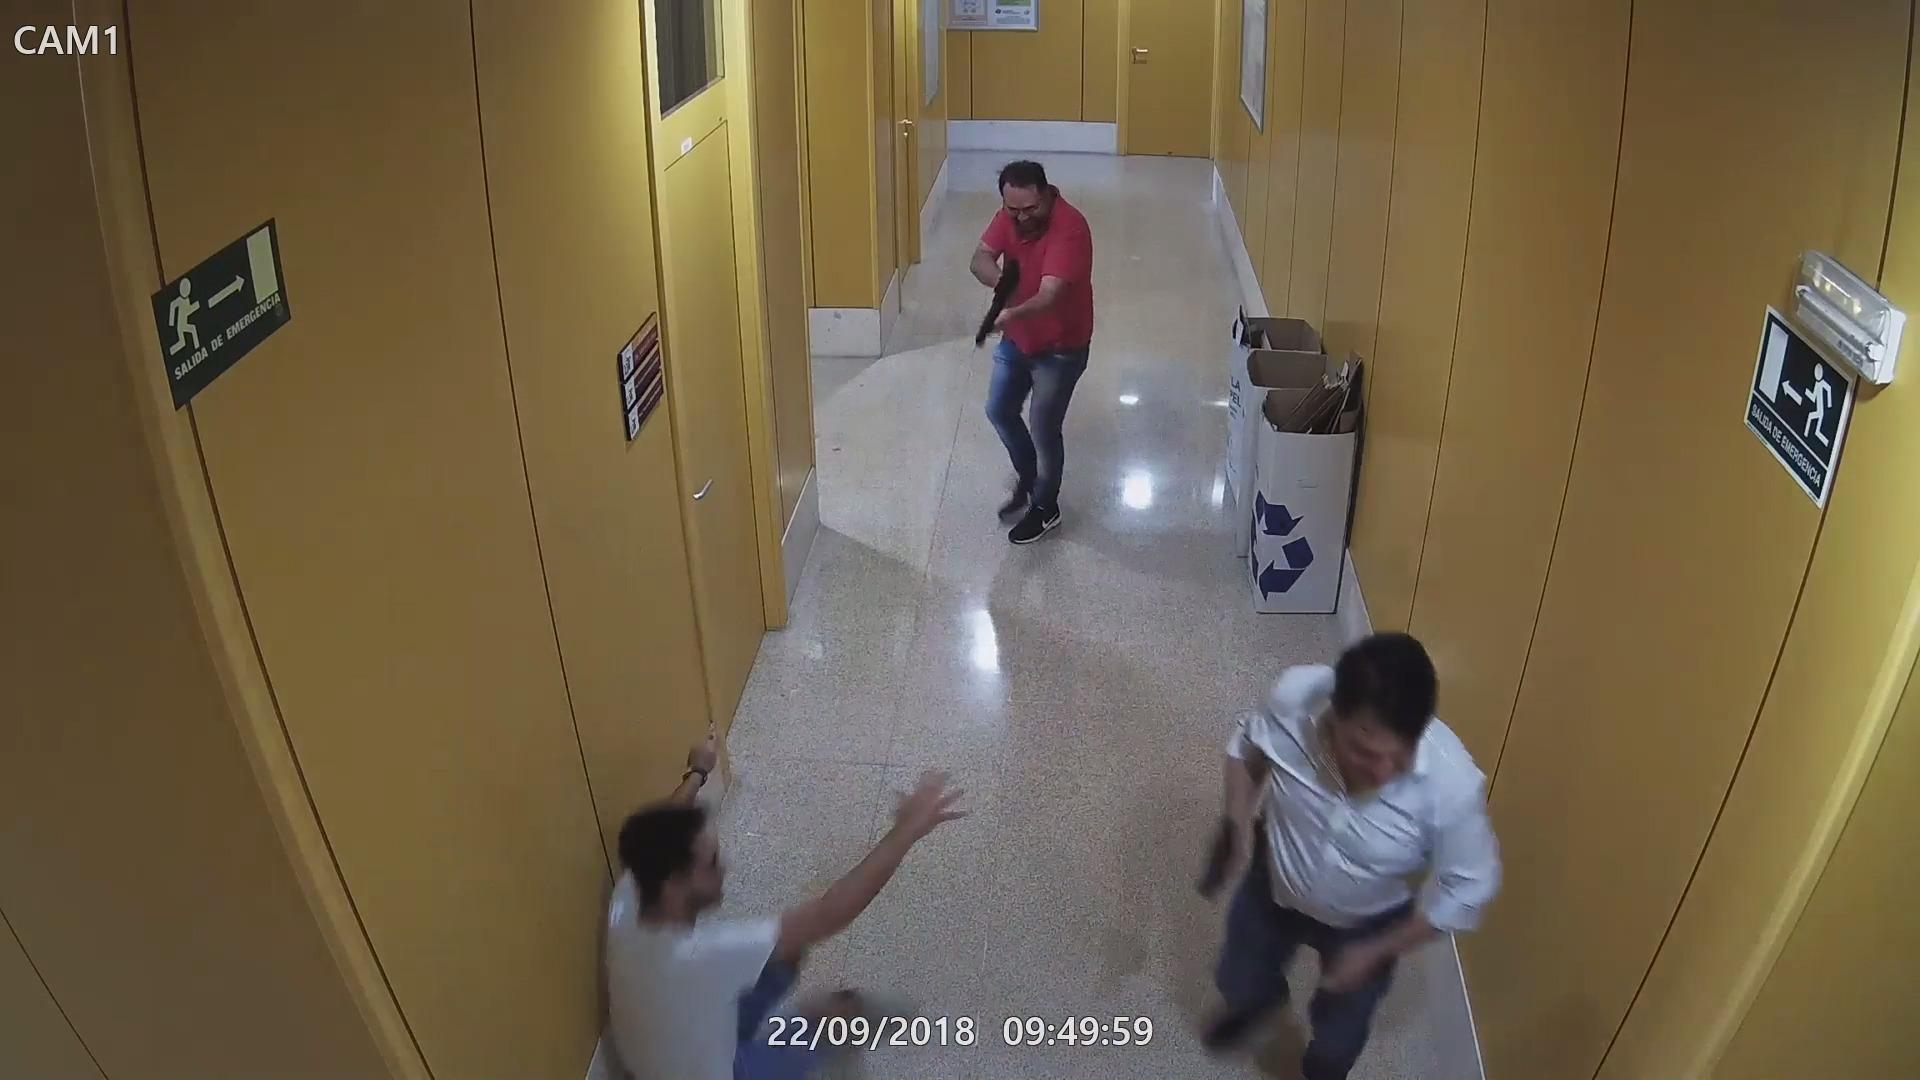Handgun: (1193, 811, 1250, 910)
